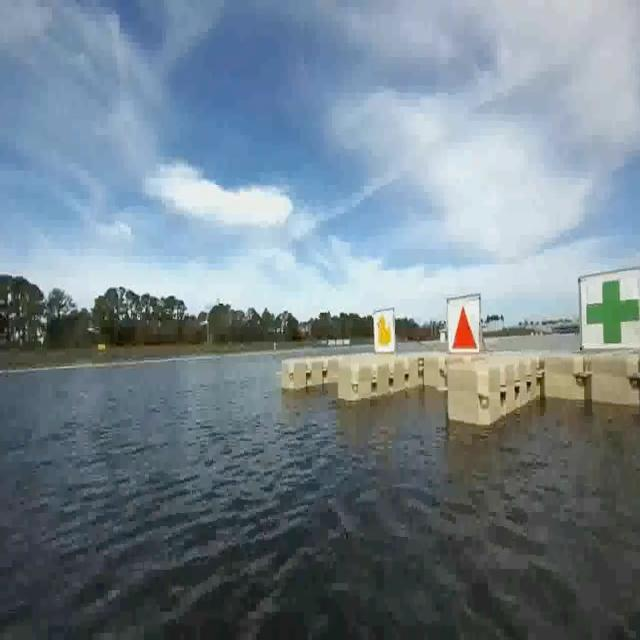blue-cross: (582, 276, 640, 354)
red-dot: (446, 294, 480, 356)
yellow-duck: (372, 313, 393, 352)
